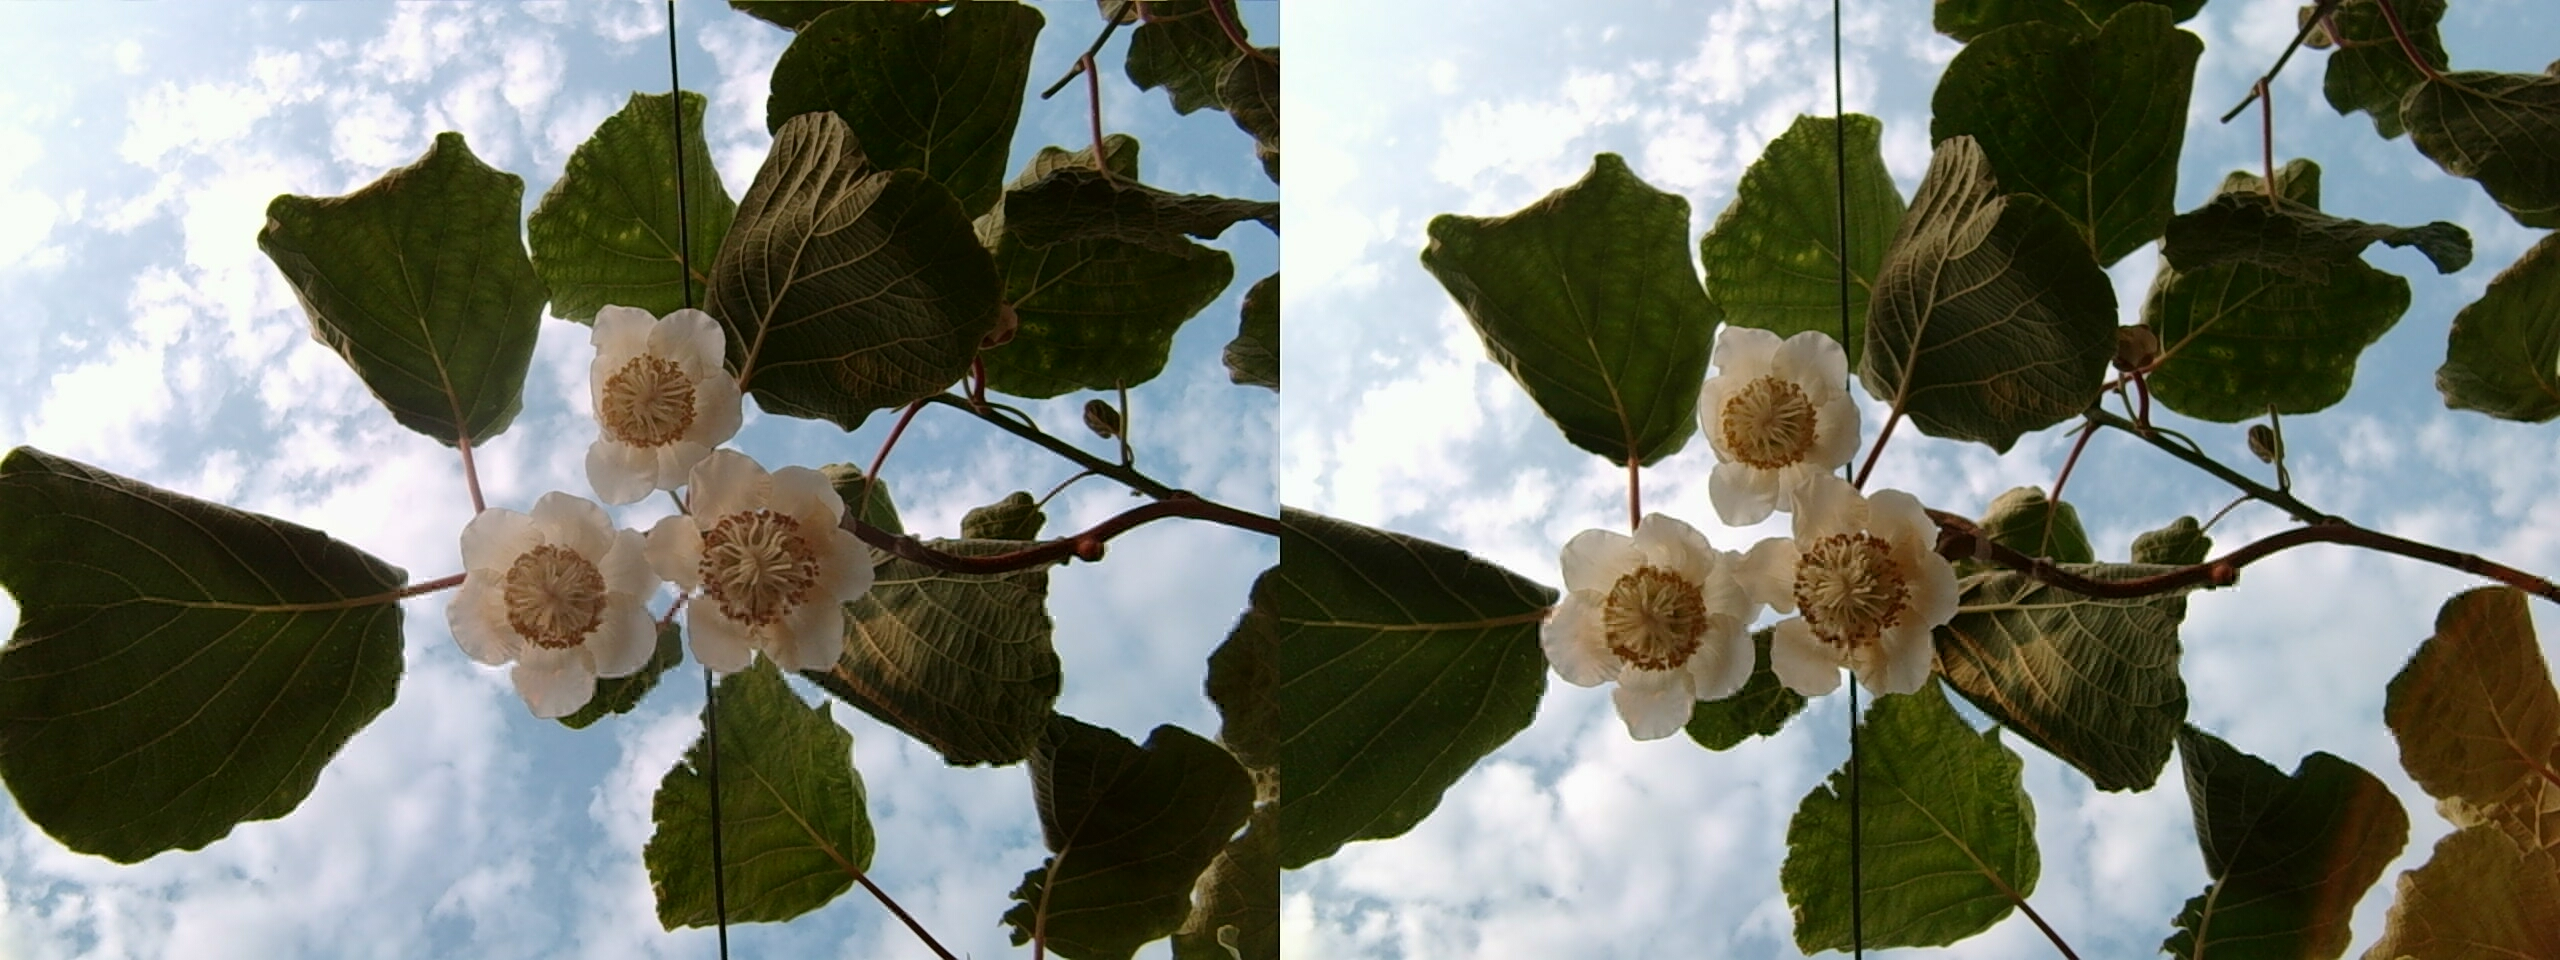flower: (1531, 501, 1784, 735), (438, 488, 671, 720), (647, 446, 869, 673), (1749, 473, 1959, 696), (570, 292, 744, 498), (1695, 317, 1861, 508)
